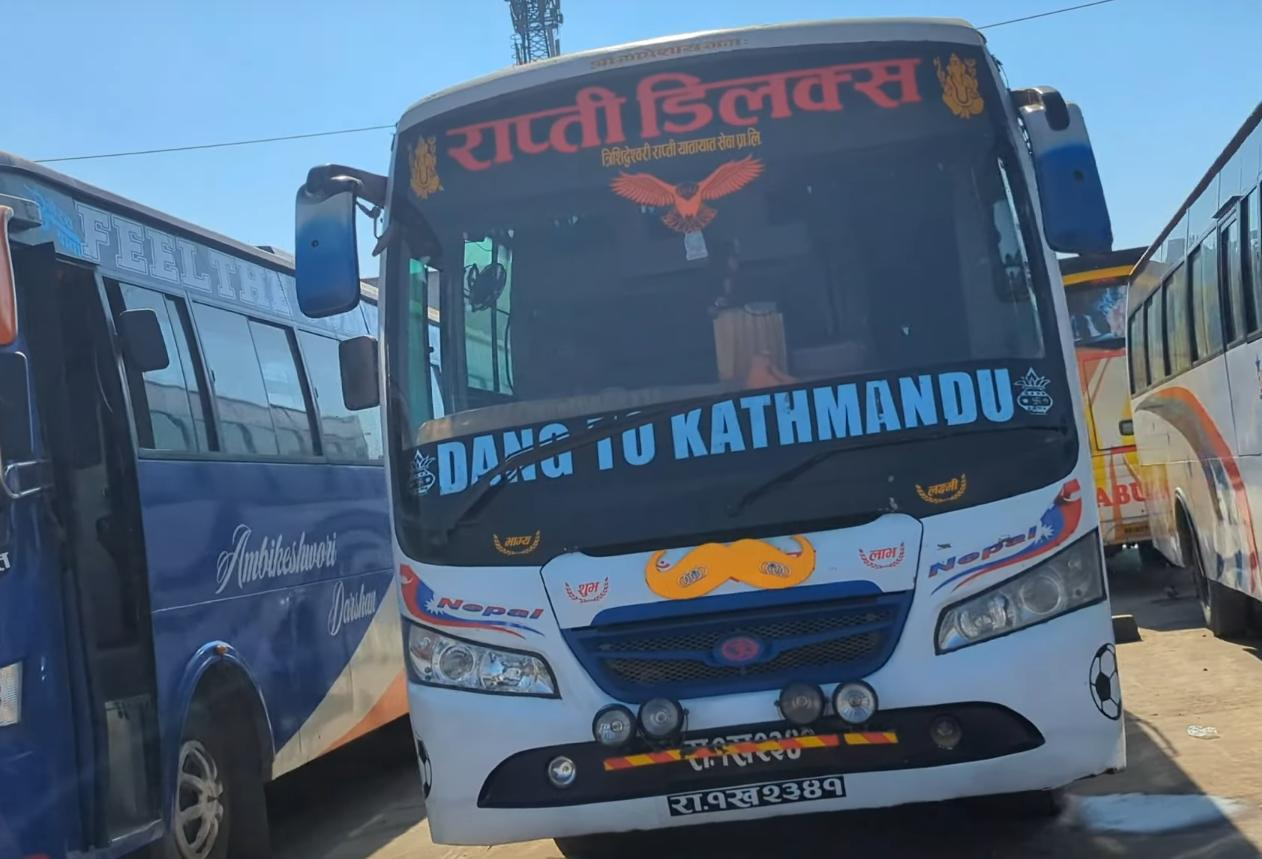bus: (293, 14, 1131, 859)
